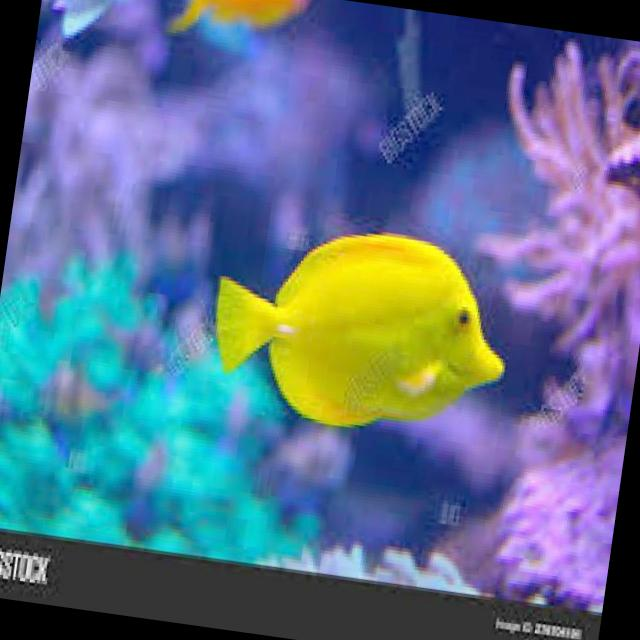TangFish: (198, 208, 520, 449)
